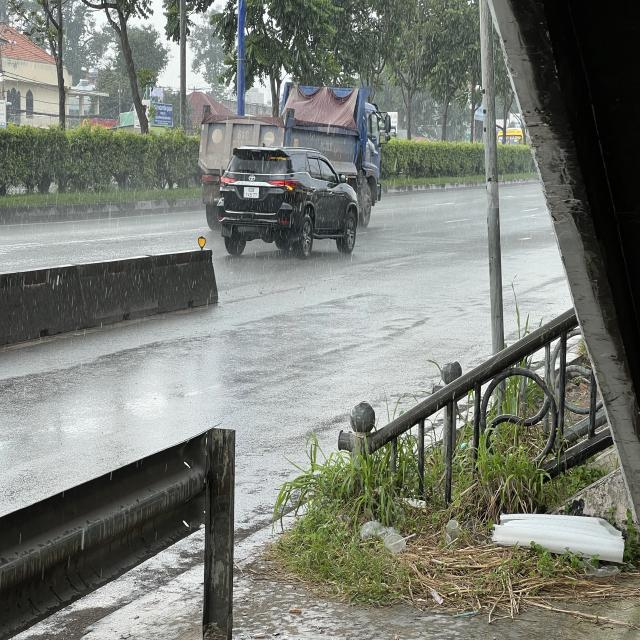car: (214, 146, 358, 253)
container: (202, 95, 378, 228)
